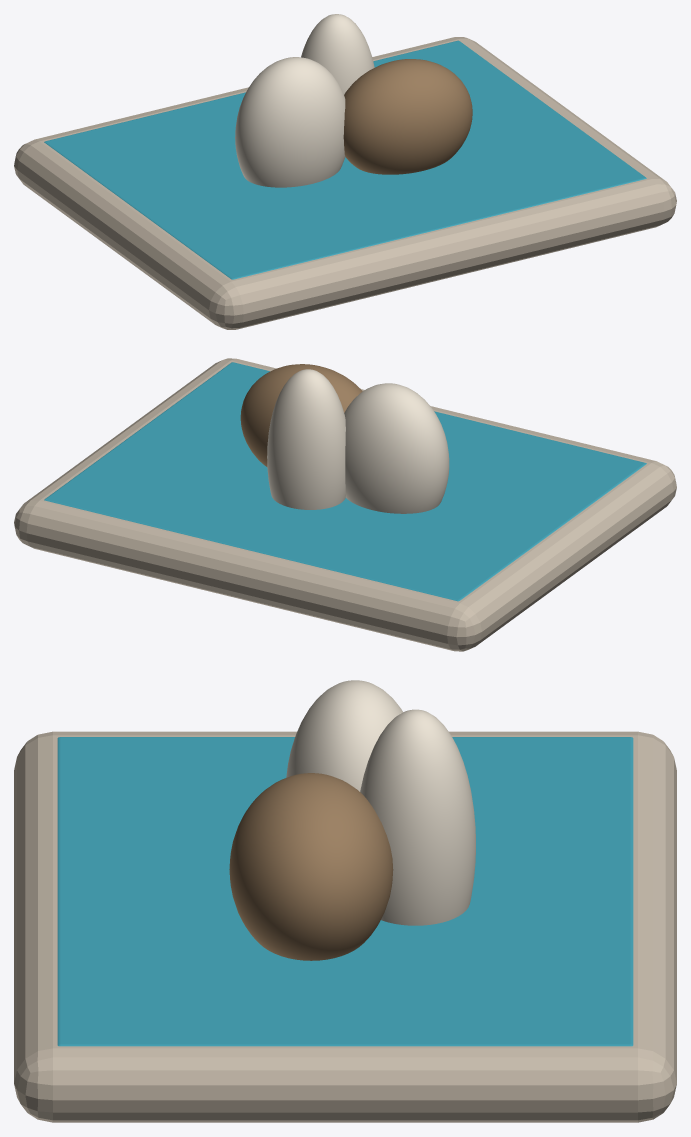
3 renders of one model, top to bottom at view 1: azimuth 30°, elevation 25°; view 2: azimuth 150°, elevation 25°; view 3: azimuth 270°, elevation 25°, orthographic. The views are drawn at different scales.
Parts seen in each view (by area): view 1: LOD0_FOUNTAIN_PARK_Water, LOD0_FOUNTAIN_PARK_Basin, LOD0_FOUNTAIN_PARK_Pebble_02, LOD0_FOUNTAIN_PARK_Pebble_01, LOD0_FOUNTAIN_PARK_Pebble_03; view 2: LOD0_FOUNTAIN_PARK_Water, LOD0_FOUNTAIN_PARK_Basin, LOD0_FOUNTAIN_PARK_Pebble_01, LOD0_FOUNTAIN_PARK_Pebble_03, LOD0_FOUNTAIN_PARK_Pebble_02; view 3: LOD0_FOUNTAIN_PARK_Water, LOD0_FOUNTAIN_PARK_Basin, LOD0_FOUNTAIN_PARK_Pebble_02, LOD0_FOUNTAIN_PARK_Pebble_03, LOD0_FOUNTAIN_PARK_Pebble_01.
Boxes of the visible parts, x1,y1,x2,y2 form: LOD0_FOUNTAIN_PARK_Water: (44, 40, 646, 279); LOD0_FOUNTAIN_PARK_Basin: (14, 37, 676, 329); LOD0_FOUNTAIN_PARK_Pebble_02: (343, 59, 472, 174); LOD0_FOUNTAIN_PARK_Pebble_01: (235, 57, 345, 187); LOD0_FOUNTAIN_PARK_Pebble_03: (301, 14, 374, 94); LOD0_FOUNTAIN_PARK_Water: (44, 362, 646, 601); LOD0_FOUNTAIN_PARK_Basin: (14, 358, 676, 651); LOD0_FOUNTAIN_PARK_Pebble_01: (344, 383, 449, 513); LOD0_FOUNTAIN_PARK_Pebble_03: (267, 369, 345, 509); LOD0_FOUNTAIN_PARK_Pebble_02: (240, 364, 362, 466); LOD0_FOUNTAIN_PARK_Water: (57, 737, 633, 1046); LOD0_FOUNTAIN_PARK_Basin: (14, 731, 676, 1122); LOD0_FOUNTAIN_PARK_Pebble_02: (229, 773, 393, 960); LOD0_FOUNTAIN_PARK_Pebble_03: (360, 709, 475, 925); LOD0_FOUNTAIN_PARK_Pebble_01: (286, 680, 402, 791).
Size of what is drawn, in the model's own units: 8.4 by 3 by 6.8.
